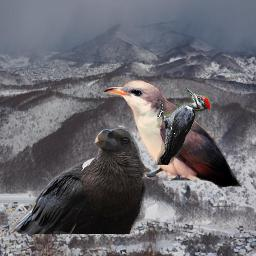Crow: (8, 125, 148, 234)
Cuckoo: (103, 80, 242, 188)
Woodpecker: (157, 87, 210, 165)
